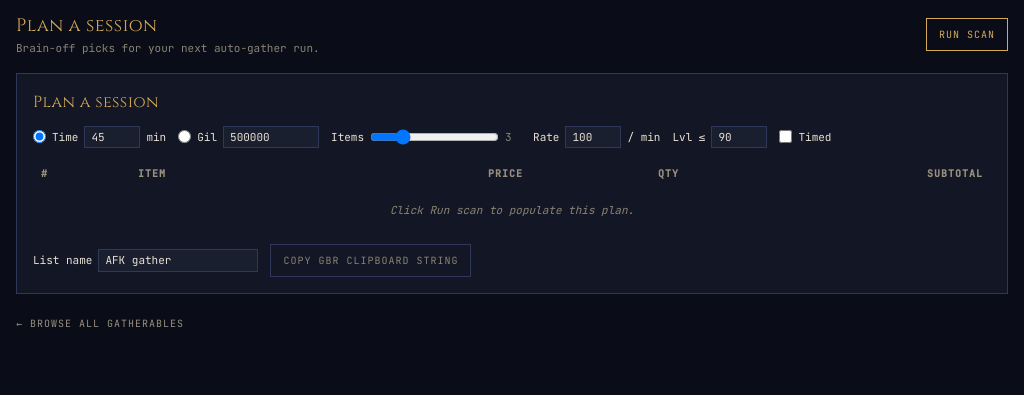
it: GatheringPlan route › omits crystals from the plan when hideCrystals is on
Click the button "Run scan" at point(967, 34), box [926,18,1008,51]
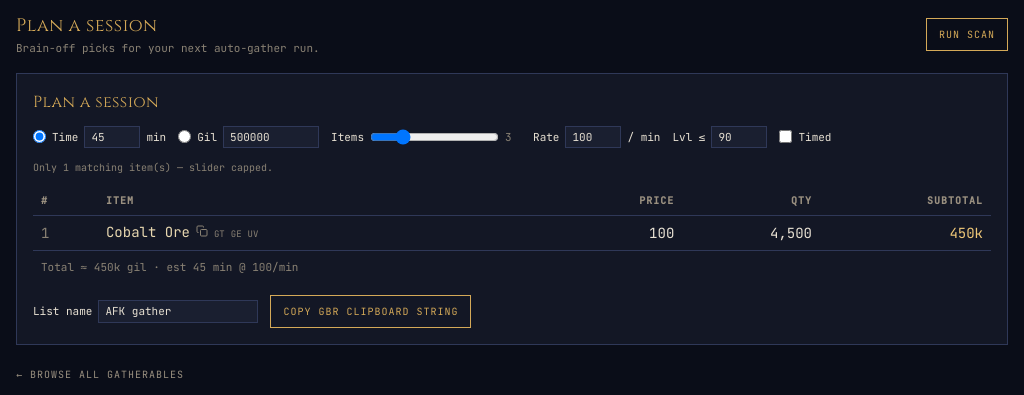
Check: the link "Cobalt Ore" is shown, box [106,222,190,242]
